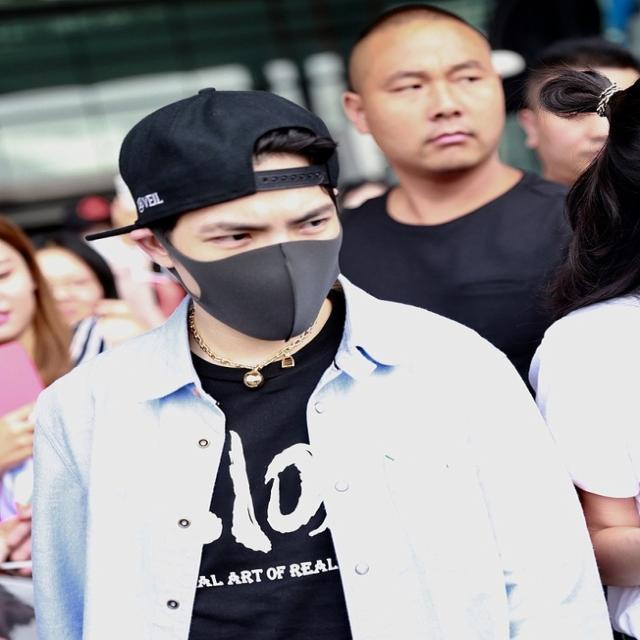mask: (173, 159, 341, 345)
nomask: (365, 16, 501, 172), (537, 74, 633, 180), (32, 253, 98, 331), (0, 246, 37, 340)
